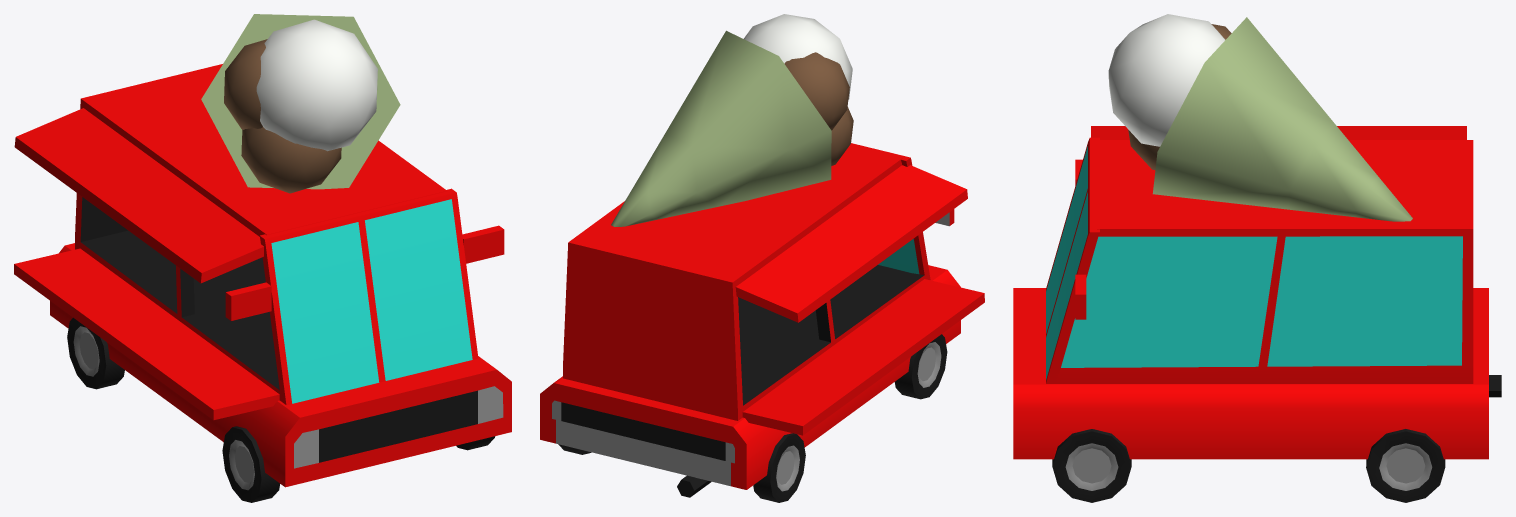
The model's file is M_Vehicle_Icetruck_A.FBX.
3 views of the same model, side by side, from view 1: azimuth 30°, elevation 25°; view 2: azimuth 150°, elevation 25°; view 3: azimuth 270°, elevation 25° (orthographic). The views are drawn at different scales.
Visible parts, largest first — view 1: Vehicle_Icetruck_A; view 2: Vehicle_Icetruck_A; view 3: Vehicle_Icetruck_A.
Boxes of the visible parts, box(x1,y1,x2,y2) form: Vehicle_Icetruck_A: box(14, 14, 511, 502); Vehicle_Icetruck_A: box(540, 14, 984, 502); Vehicle_Icetruck_A: box(1013, 14, 1501, 502).
Size of the model in its own units: 283 by 376 by 397.
